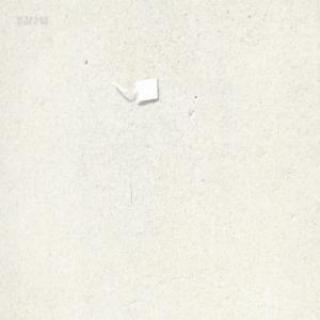LuggageTagtrack_idkeyframe: (110, 73, 160, 105)
